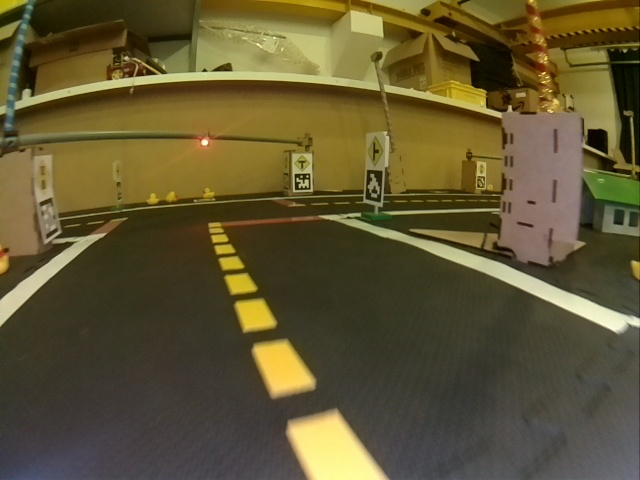Duckie: (1, 245, 10, 274), (147, 193, 159, 204), (167, 192, 177, 202), (203, 188, 214, 197)
Intersection sign: (367, 136, 384, 167), (293, 154, 310, 170)
QR code: (36, 203, 61, 243), (366, 169, 380, 204), (294, 173, 313, 191), (476, 177, 486, 189)
Signal sign: (34, 158, 53, 196)
Traffic light: (200, 137, 210, 147)
